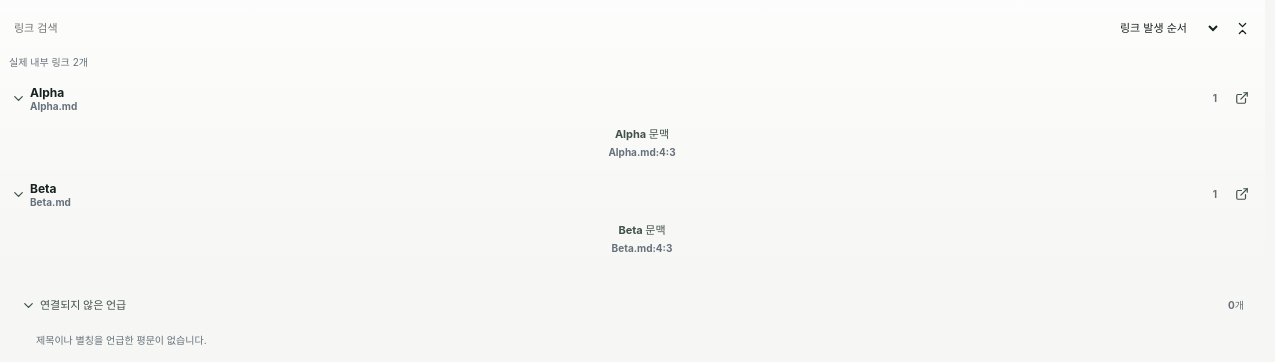
Test case: LinkOccurrencePanel › collapses one source group or every visible group and expands them accessibly
Click the button with aria-label "Alpha 링크 그룹 접기".
click(47, 92)  # box [7,77,1224,119]
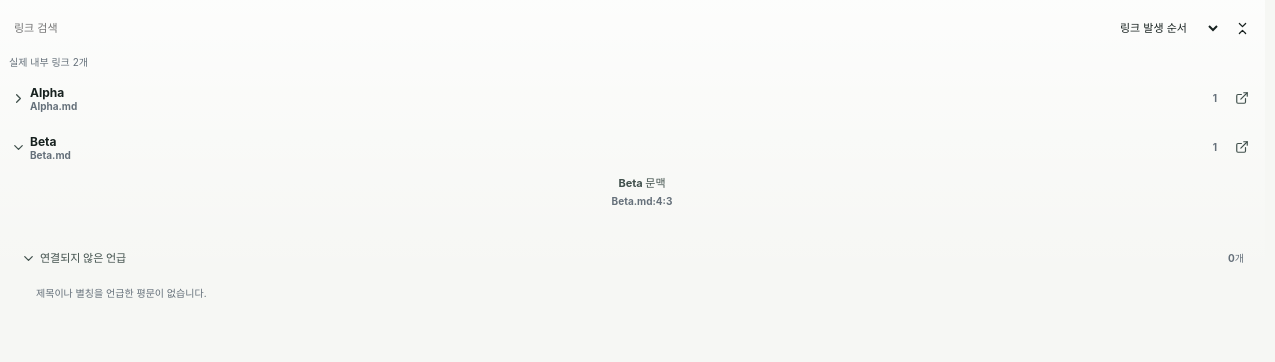
expect the button with aria-label "Beta 4행 3열 실제 링크 열기" is shown: met, box [26,169,1258,214]
Click the button named "모든 링크 그룹 접기".
click(1242, 28)  # box [1226,7,1258,49]
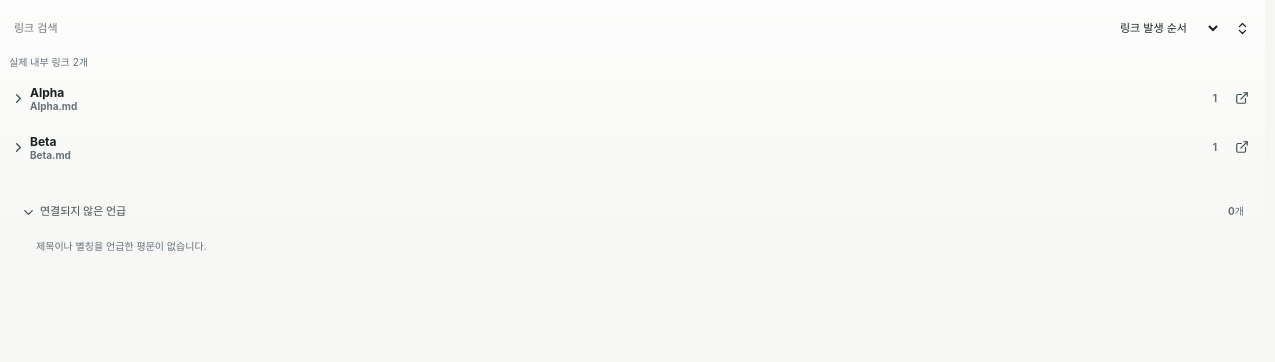
Click the button named "모든 링크 그룹 펼치기".
click(1242, 28)  # box [1226,7,1258,49]
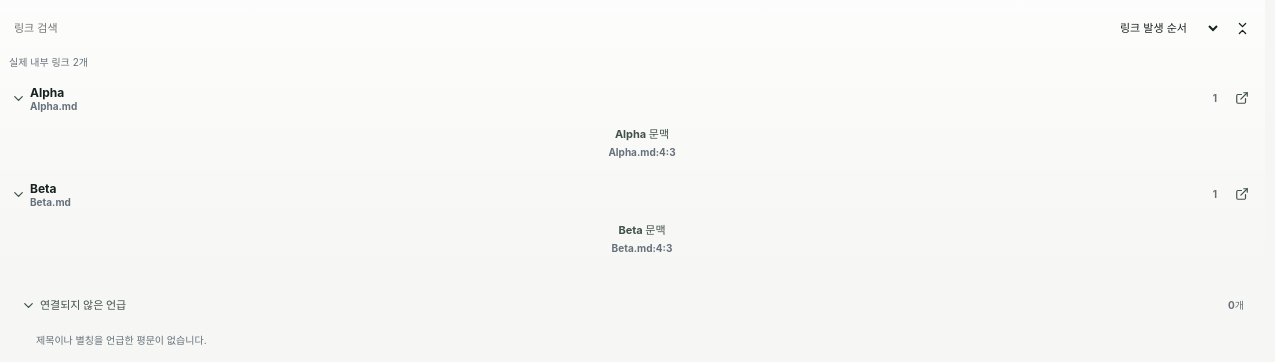
expect the button with aria-label "Alpha 4행 3열 실제 링크 열기" is shown: met, box [26,120,1258,165]
expect the button with aria-label "Beta 4행 3열 실제 링크 열기" is shown: met, box [26,216,1258,261]
